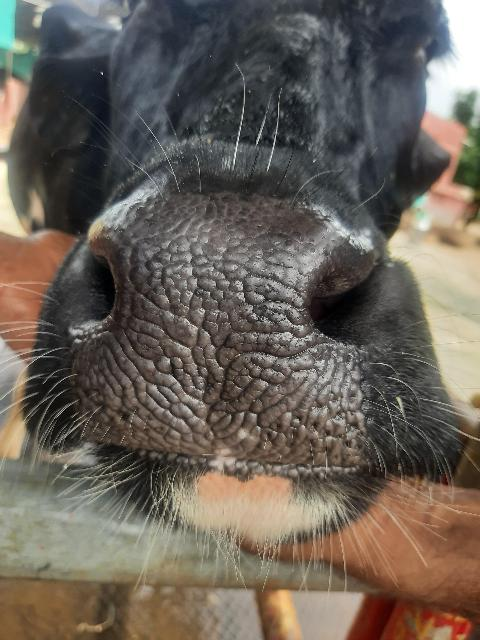Muzzle: (87, 212, 363, 466)
